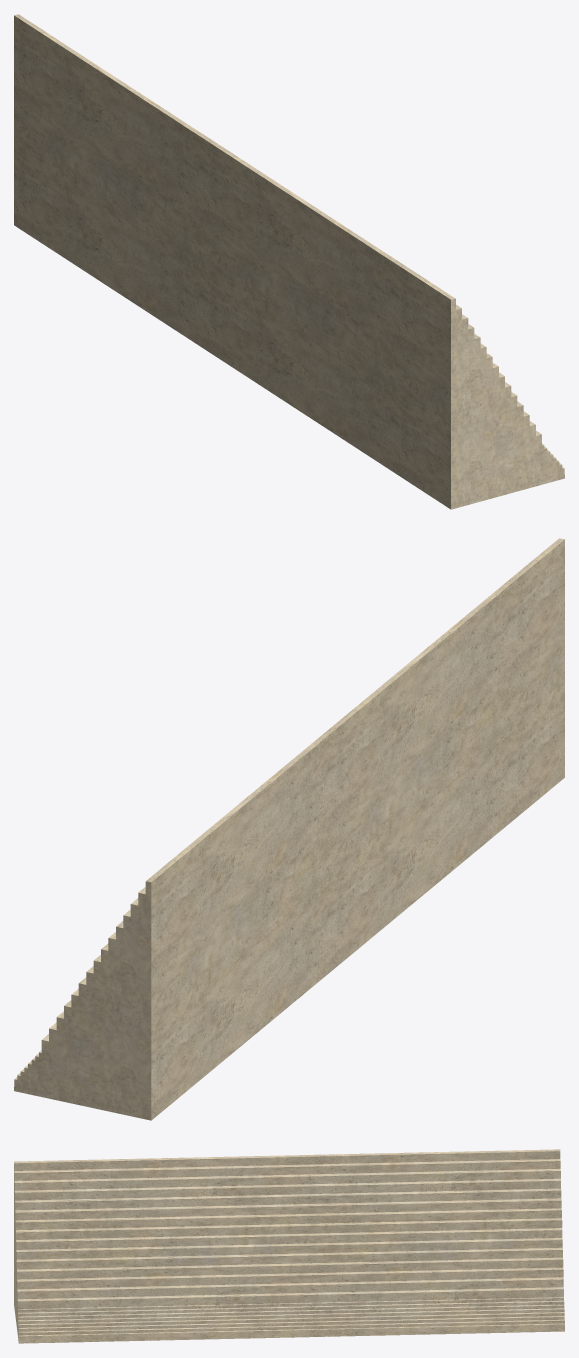
Rendered from concrete_51.fbx.
3 renders of one model, top to bottom at view 1: azimuth 30°, elevation 25°; view 2: azimuth 150°, elevation 25°; view 3: azimuth 270°, elevation 25°, orthographic. The views are drawn at different scales.
Visible parts, largest first — view 1: concrete_51; view 2: concrete_51; view 3: concrete_51.
Part boxes in pixels (x1=…): concrete_51: x1=14, y1=14, x2=564, y2=509; concrete_51: x1=14, y1=538, x2=564, y2=1120; concrete_51: x1=14, y1=1149, x2=564, y2=1343.
Size of the model in its own units: 277 by 361 by 1259.
